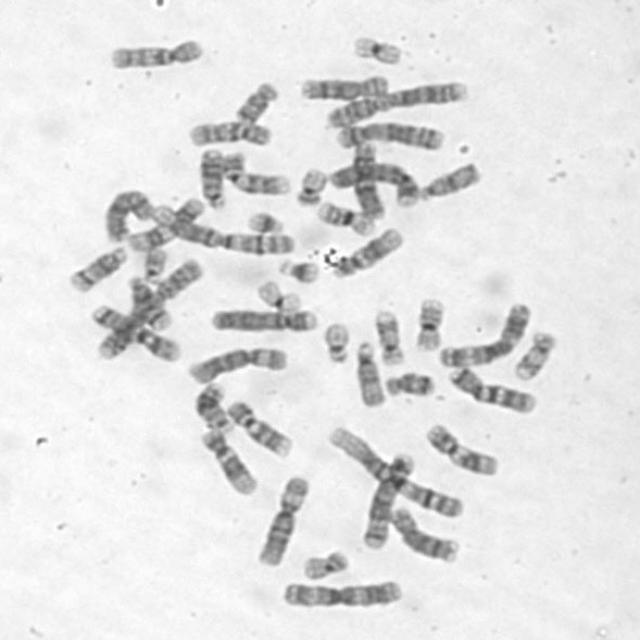A1: (328, 427, 465, 519), (149, 202, 298, 256)
A2: (94, 258, 202, 360), (326, 82, 469, 128)
A3: (438, 302, 533, 367), (280, 578, 404, 610)
B4: (326, 161, 420, 209), (210, 308, 318, 332)
B5: (361, 452, 414, 550), (332, 122, 449, 149)
C10: (108, 38, 206, 71), (188, 119, 275, 147)
C11: (130, 195, 207, 252), (426, 421, 498, 477)
C12: (198, 428, 258, 498), (332, 226, 403, 279)
C6: (254, 476, 310, 569), (187, 345, 289, 384)
C7: (88, 303, 185, 365), (448, 364, 541, 416)
C8: (389, 506, 462, 562), (299, 76, 390, 101)
C9: (225, 398, 293, 458), (223, 152, 292, 195)
D13: (191, 382, 235, 435), (200, 148, 226, 209)
D14: (68, 246, 128, 294), (127, 274, 174, 331)
D15: (420, 161, 482, 202), (354, 341, 387, 407)
E16: (317, 201, 377, 240), (412, 298, 445, 352)
E17: (512, 331, 555, 383), (374, 307, 407, 367)
E18: (234, 81, 282, 122), (382, 371, 437, 399)
F19: (352, 34, 404, 67), (256, 279, 306, 313)
F20: (300, 549, 351, 580), (296, 166, 326, 208)
G21: (276, 257, 322, 285), (245, 209, 287, 235)
G22: (323, 321, 351, 366), (142, 246, 168, 286)
X: (350, 142, 388, 220), (103, 188, 153, 245)
